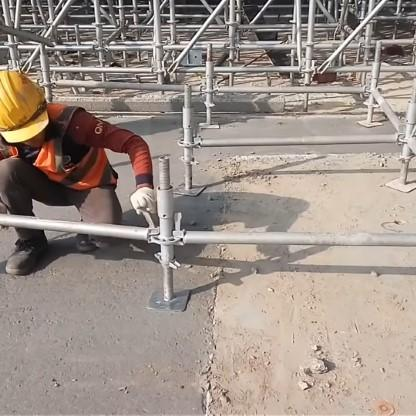helmet: (0, 63, 70, 141)
